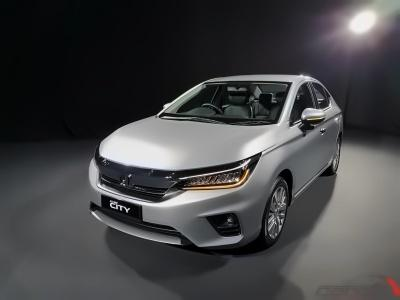Car hood: (91, 119, 278, 168)
Fender - -F-L-: (248, 107, 296, 230)
Front bumper: (84, 160, 273, 250)
Headlight - -L-: (173, 151, 262, 188)
Passenger-s door - -F-L-: (281, 73, 326, 210)
Passenger-s door - -R-L-: (308, 75, 341, 181)
Side bumper - -L-: (286, 144, 337, 215)
Side mirror - -L-: (295, 106, 325, 133)
